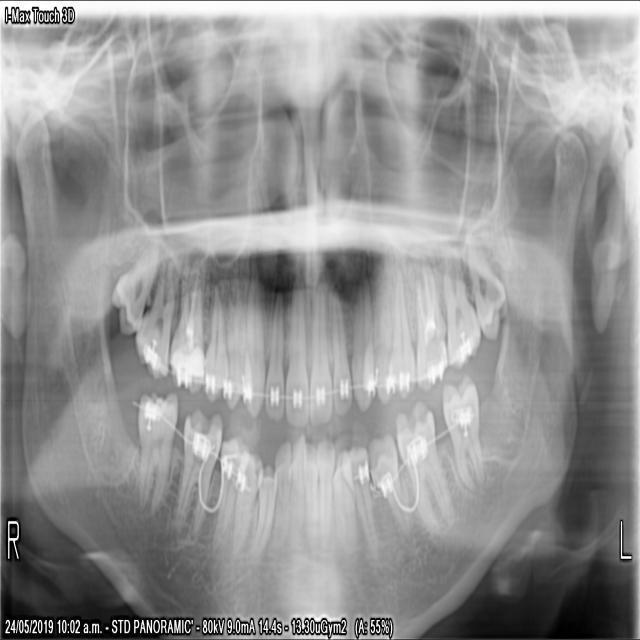LCD: (330, 442, 354, 563)
LCU: (347, 265, 374, 412)
LID: (314, 435, 333, 562), (301, 438, 316, 559)
LIU: (306, 275, 331, 424), (328, 284, 351, 413)
LMD: (392, 395, 452, 548), (439, 368, 483, 495)
LMU: (439, 243, 479, 370), (411, 249, 445, 392), (465, 229, 505, 340)
LPMD: (364, 428, 416, 556), (338, 441, 376, 564)
LPMU: (359, 249, 391, 403), (383, 255, 414, 397)
RCD: (243, 459, 276, 570)
RCU: (238, 257, 264, 420)
RID: (269, 437, 290, 557), (286, 427, 304, 556)
RIU: (282, 264, 306, 427), (261, 281, 283, 421)
RMD: (172, 405, 221, 535), (134, 385, 177, 515)
RMU: (130, 252, 176, 379), (165, 251, 203, 394), (106, 236, 160, 336)
RPMD: (207, 429, 248, 559), (227, 447, 261, 563)
RPMU: (219, 269, 250, 411), (198, 276, 225, 404)
